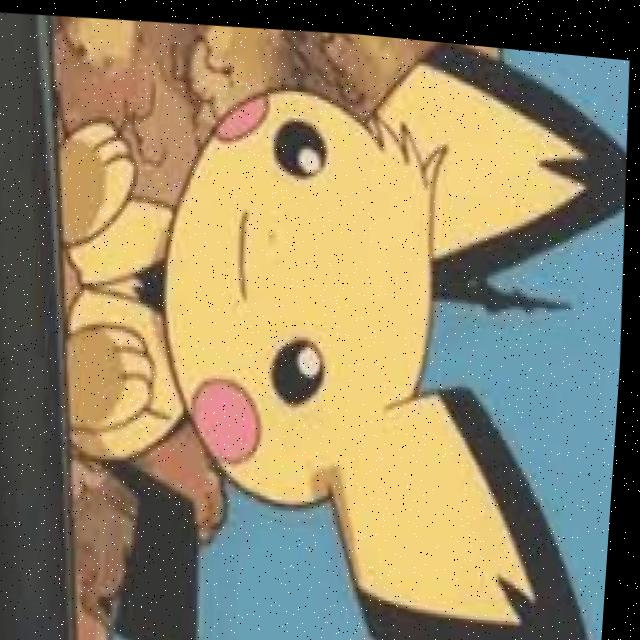pichu: (39, 6, 640, 640)
